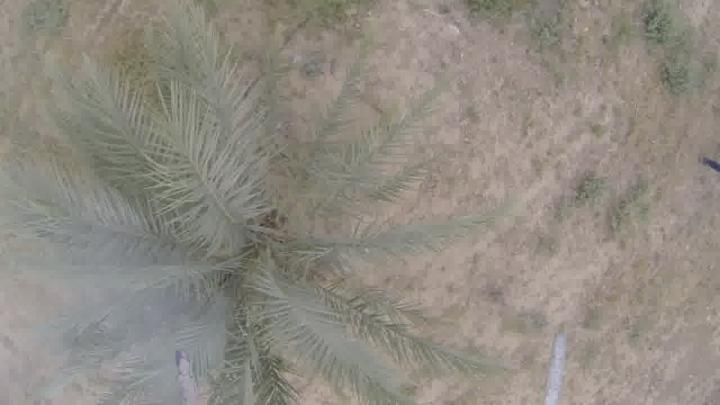Date-Palm-Crown: (116, 134, 362, 400)
